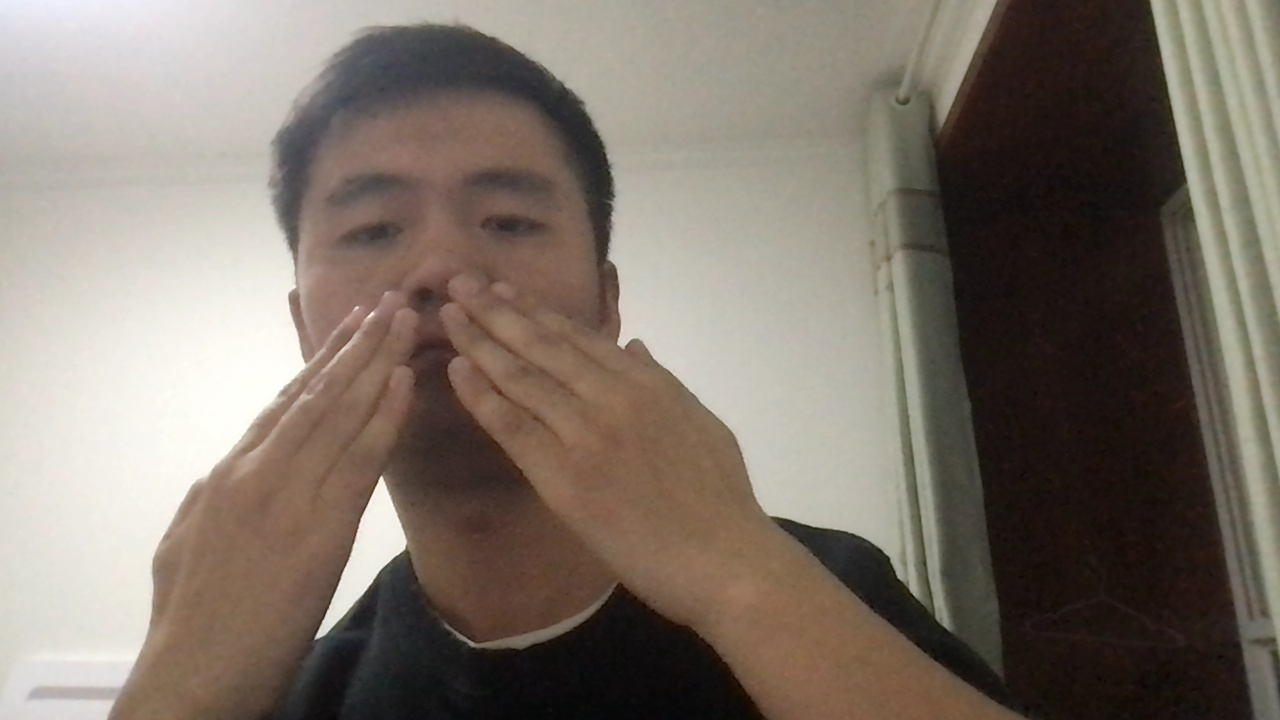thanks: (120, 278, 834, 641)
